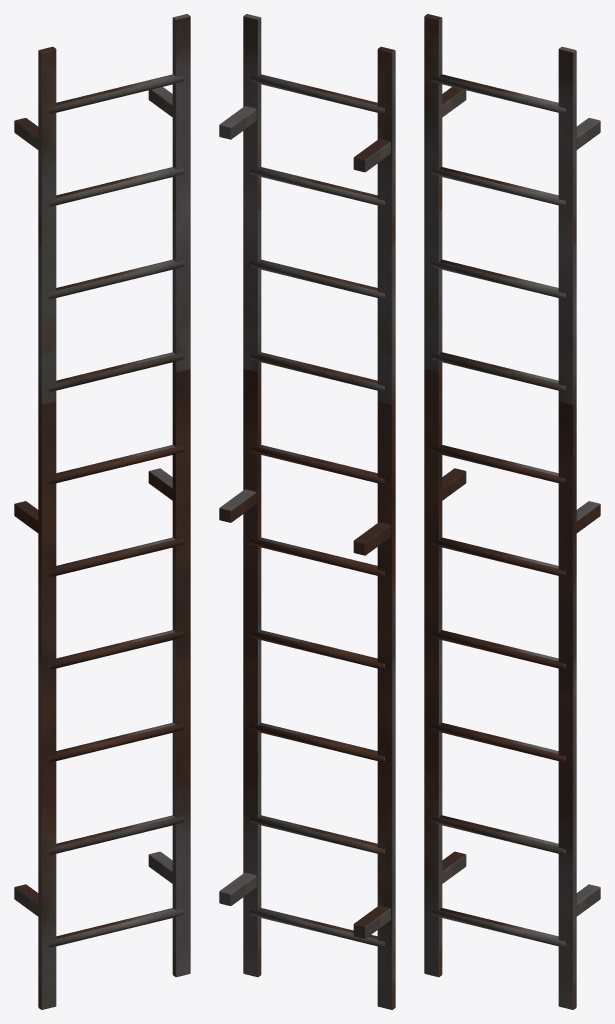
The model's file is F29_wall_ladder.glb.
3 renders of one model, left to right at view 1: azimuth 30°, elevation 25°; view 2: azimuth 150°, elevation 25°; view 3: azimuth 330°, elevation 25°, orthographic.
Parts seen in each view (by area): view 1: F29_wall_ladder; view 2: F29_wall_ladder; view 3: F29_wall_ladder.
Boxes of the visible parts, x1,y1,x2,y2 form: F29_wall_ladder: (14, 14, 190, 1009); F29_wall_ladder: (219, 14, 395, 1009); F29_wall_ladder: (424, 14, 600, 1009).
Bounding box in the file's own units: 0.49 × 3 × 0.1683.
1 material, 1 textured.
